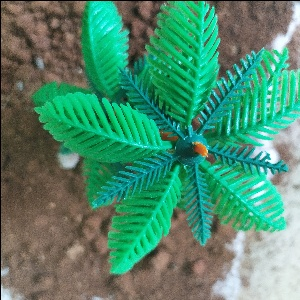plant: (35, 4, 289, 279)
